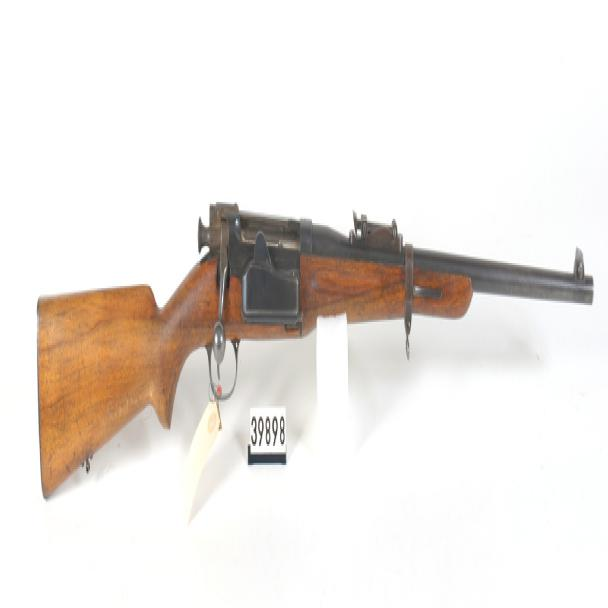Gun: (34, 122, 600, 511)
